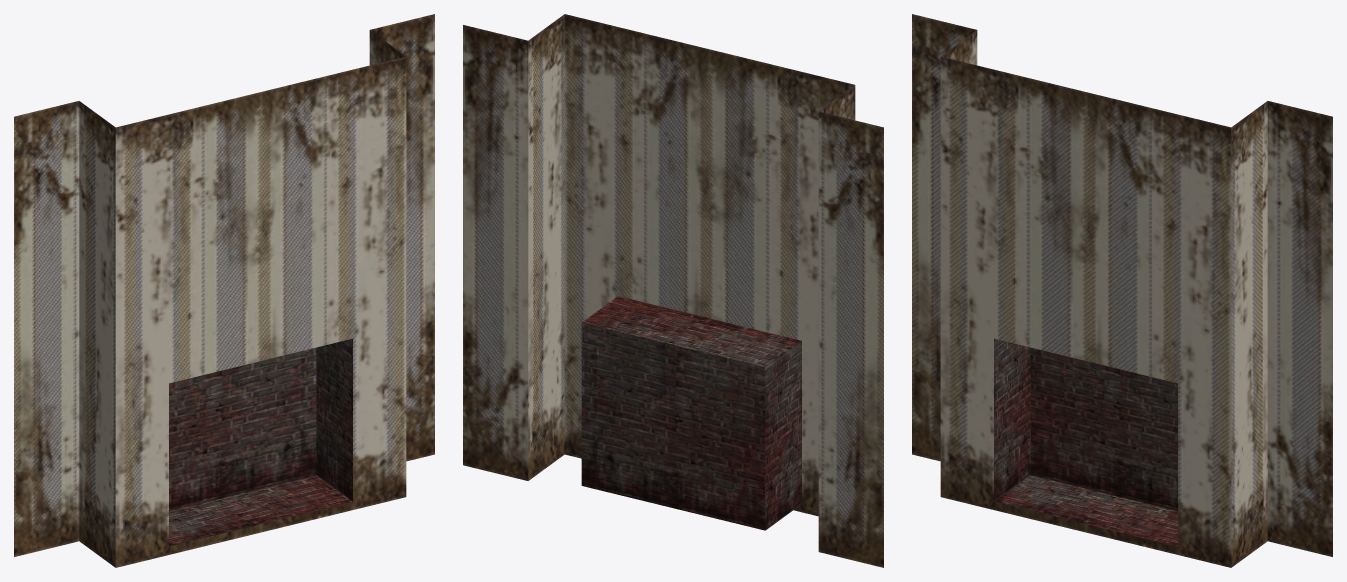
File: wall_white_fireplace.obj
The picture shows the model from 3 angles, left to right: view 1: azimuth 30°, elevation 25°; view 2: azimuth 150°, elevation 25°; view 3: azimuth 330°, elevation 25°; orthographic projection.
Visible parts, largest first — view 1: Wall_Fireplace; view 2: Wall_Fireplace; view 3: Wall_Fireplace.
Part boxes in pixels (x1,y1,x2,y2): Wall_Fireplace: (14, 14, 434, 567); Wall_Fireplace: (463, 14, 883, 567); Wall_Fireplace: (912, 14, 1332, 567).
Size of the model in its own units: 3 by 3 by 0.4501.
Materials: 2 (2 with a texture image).
